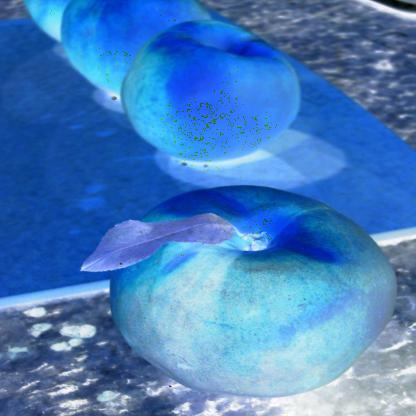peach leaf: (80, 212, 239, 275)
